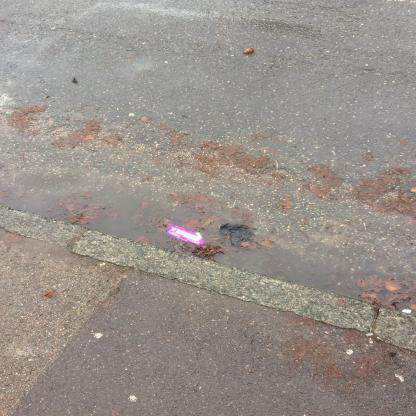plastik: (168, 225, 206, 247)
